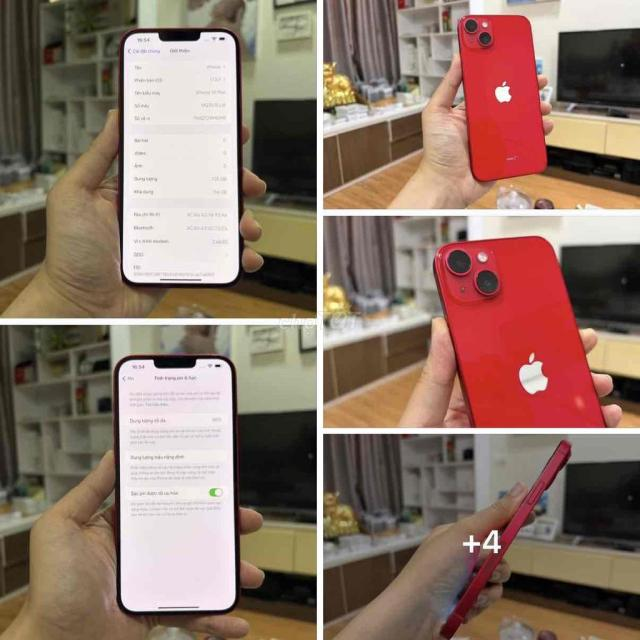gen_14: (437, 230, 608, 438)
